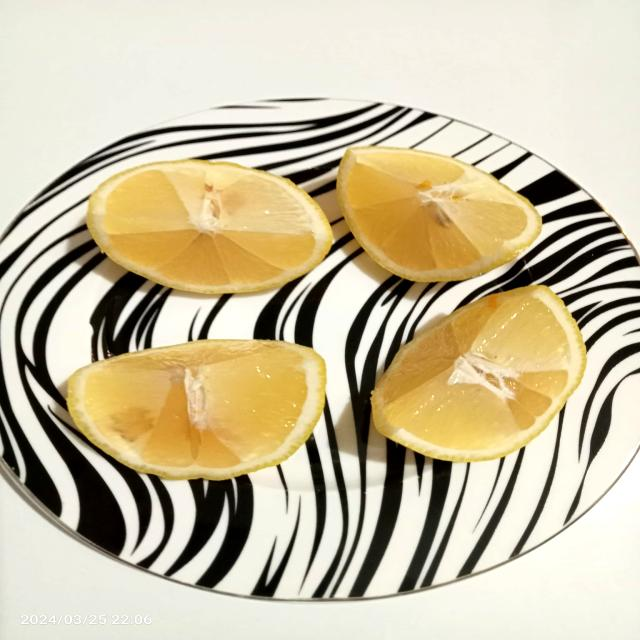lemon: (348, 284, 614, 475), (51, 316, 335, 488), (75, 152, 339, 297), (338, 136, 560, 290)
